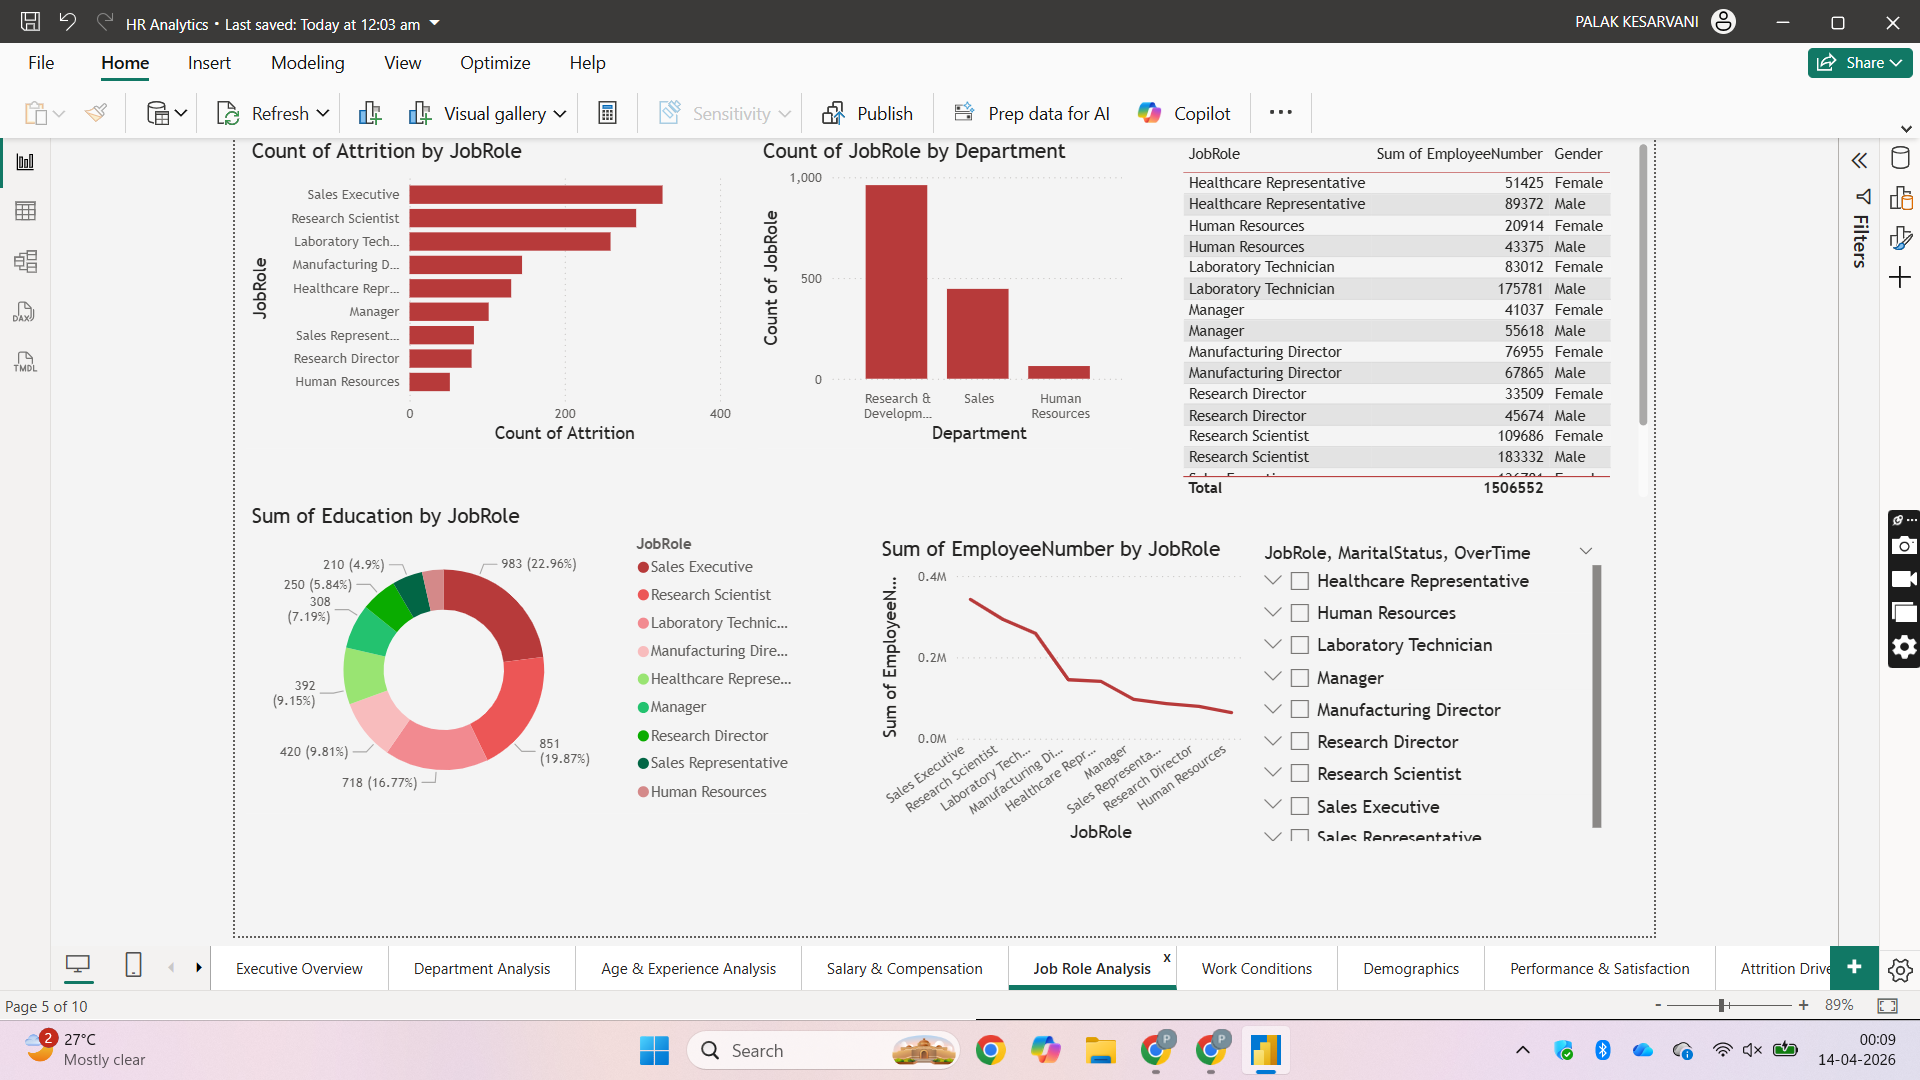

Layout of this report page (visuals, bound fields, positions):
{"tool":"powerbi","page":{"name":"Job Role Analysis","canvas":[1280,720],"ordinal":4},"visuals":[{"type":"barChart","fields":{"Category":["cleaned_data.JobRole"],"Y":["CountNonNull(cleaned_data.Attrition)"]},"box":[10.2,0,442.4,279.7],"z":0},{"type":"donutChart","fields":{"Category":["cleaned_data.JobRole"],"Y":["Sum(cleaned_data.Education)"]},"box":[10.2,328.8,506.8,279.7],"z":1000},{"type":"columnChart","fields":{"Category":["cleaned_data.Department"],"Y":["CountNonNull(cleaned_data.JobRole)"]},"box":[471.2,0,337.3,279.7],"z":2000},{"type":"lineChart","fields":{"Category":["cleaned_data.JobRole"],"Y":["Sum(cleaned_data.EmployeeNumber)"]},"box":[578,359.3,337.3,279.7],"z":3000},{"type":"tableEx","fields":{"Values":["cleaned_data.JobRole","Sum(cleaned_data.EmployeeNumber)","cleaned_data.Gender"]},"box":[849.2,0,430.5,328.8],"z":4000},{"type":"slicer","fields":{"Values":["cleaned_data.JobRole","cleaned_data.MaritalStatus","cleaned_data.OverTime"]},"box":[915.3,359.3,322,279.7],"z":5000}]}

Visuals, with their boxes on the page's 1280x720 design canvas (x1, y1, x2, y2). These are canvas units, not pixel positions in the 1920x1080 screenshot, which may show the page scaled, cropped or inside an application window:
barChart - cleaned_data.JobRole x CountNonNull(cleaned_data.Attrition): <region>10, 0, 453, 280</region>
donutChart - cleaned_data.JobRole x Sum(cleaned_data.Education): <region>10, 329, 517, 608</region>
columnChart - cleaned_data.Department x CountNonNull(cleaned_data.JobRole): <region>471, 0, 808, 280</region>
lineChart - cleaned_data.JobRole x Sum(cleaned_data.EmployeeNumber): <region>578, 359, 915, 639</region>
tableEx - cleaned_data.JobRole x Sum(cleaned_data.EmployeeNumber): <region>849, 0, 1280, 329</region>
slicer - cleaned_data.JobRole x cleaned_data.MaritalStatus: <region>915, 359, 1237, 639</region>
